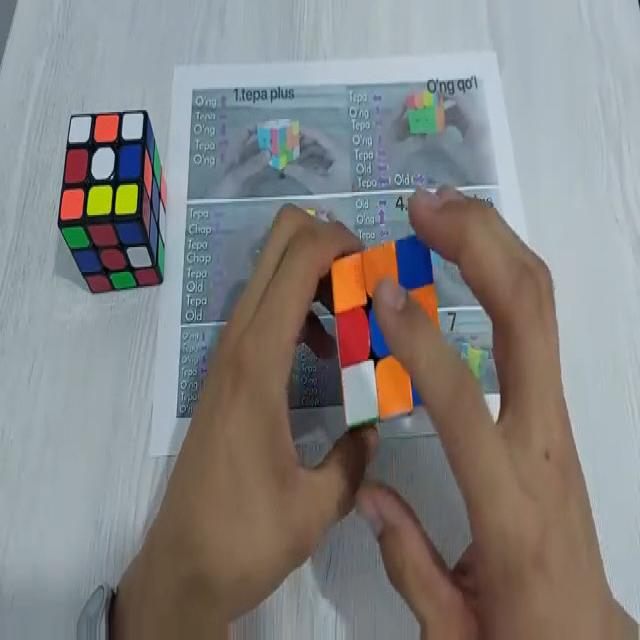Rub: (326, 225, 446, 433), (60, 105, 166, 293)
